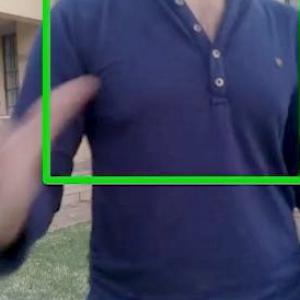land_hand: (0, 66, 106, 262)
